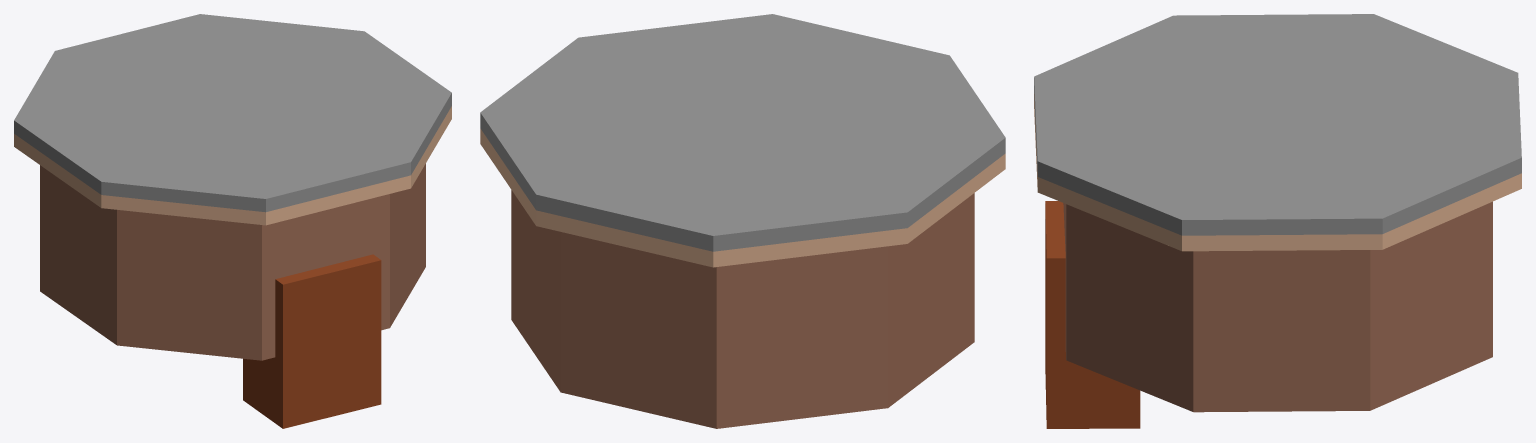
File: octagon.glb
3 views of the same model, side by side, from view 1: azimuth 30°, elevation 25°; view 2: azimuth 150°, elevation 25°; view 3: azimuth 270°, elevation 25° (orthographic). The views are drawn at different scales.
Parts seen in each view (by area): view 1: Circle, Cube.018; view 2: Circle; view 3: Circle, Cube.018.
Boxes of the visible parts, x1,y1,x2,y2 form: Circle: (14,14,451,360); Cube.018: (243,254,381,428); Circle: (480,14,1005,428); Circle: (1034,14,1521,412); Cube.018: (1045,201,1140,428).
Size of the model in its own units: 0.7829 by 0.5005 by 0.7829.
